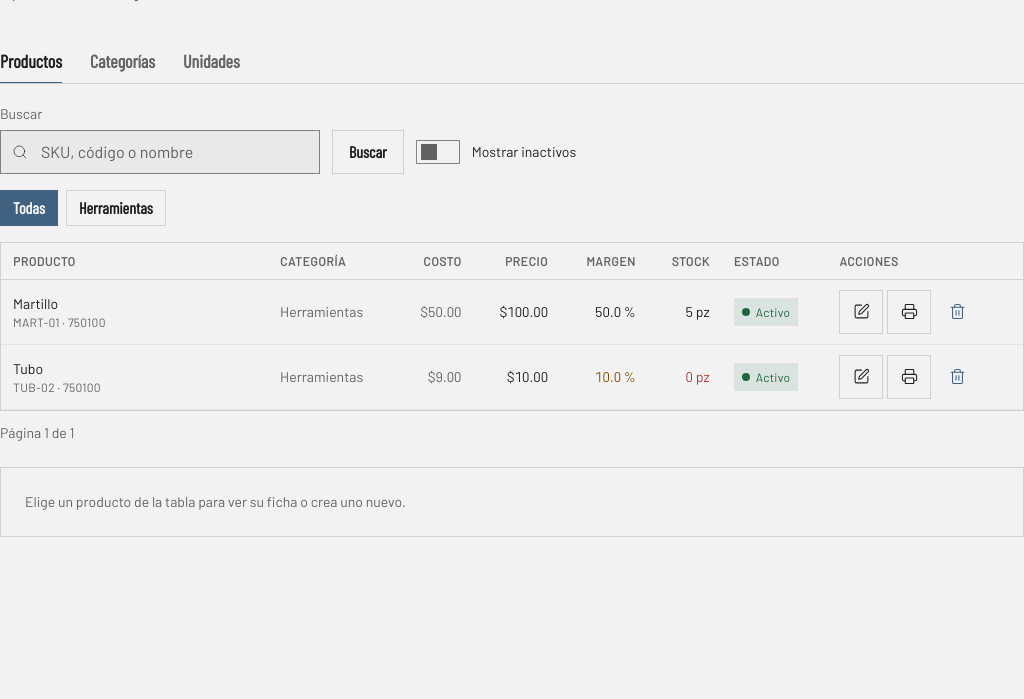
Scenario: Productos con el diseño Industry › al elegir un producto muestra el panel con precio con IVA, utilidad y margen
Click the button "Martillo": (36,304) [13,294,58,314]
(page scrolled)
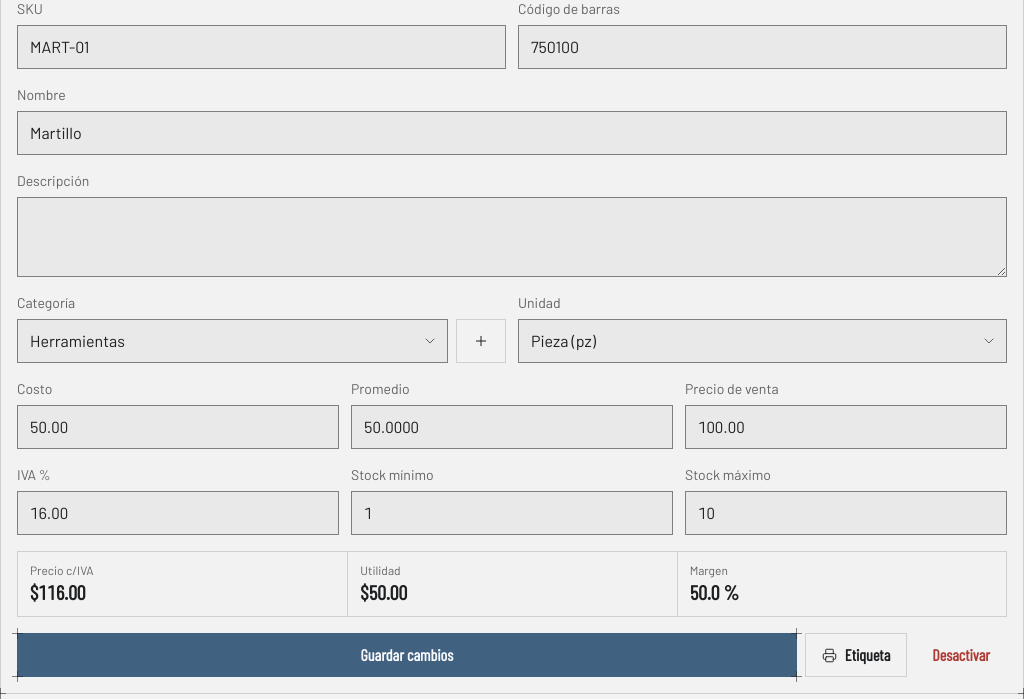
Result: the text "$116.00" is shown at [30,580,86,604]
Result: the text "$50.00" is shown at [360,580,407,604]
Result: the text "50.0 %" is shown at [690,580,739,604]
